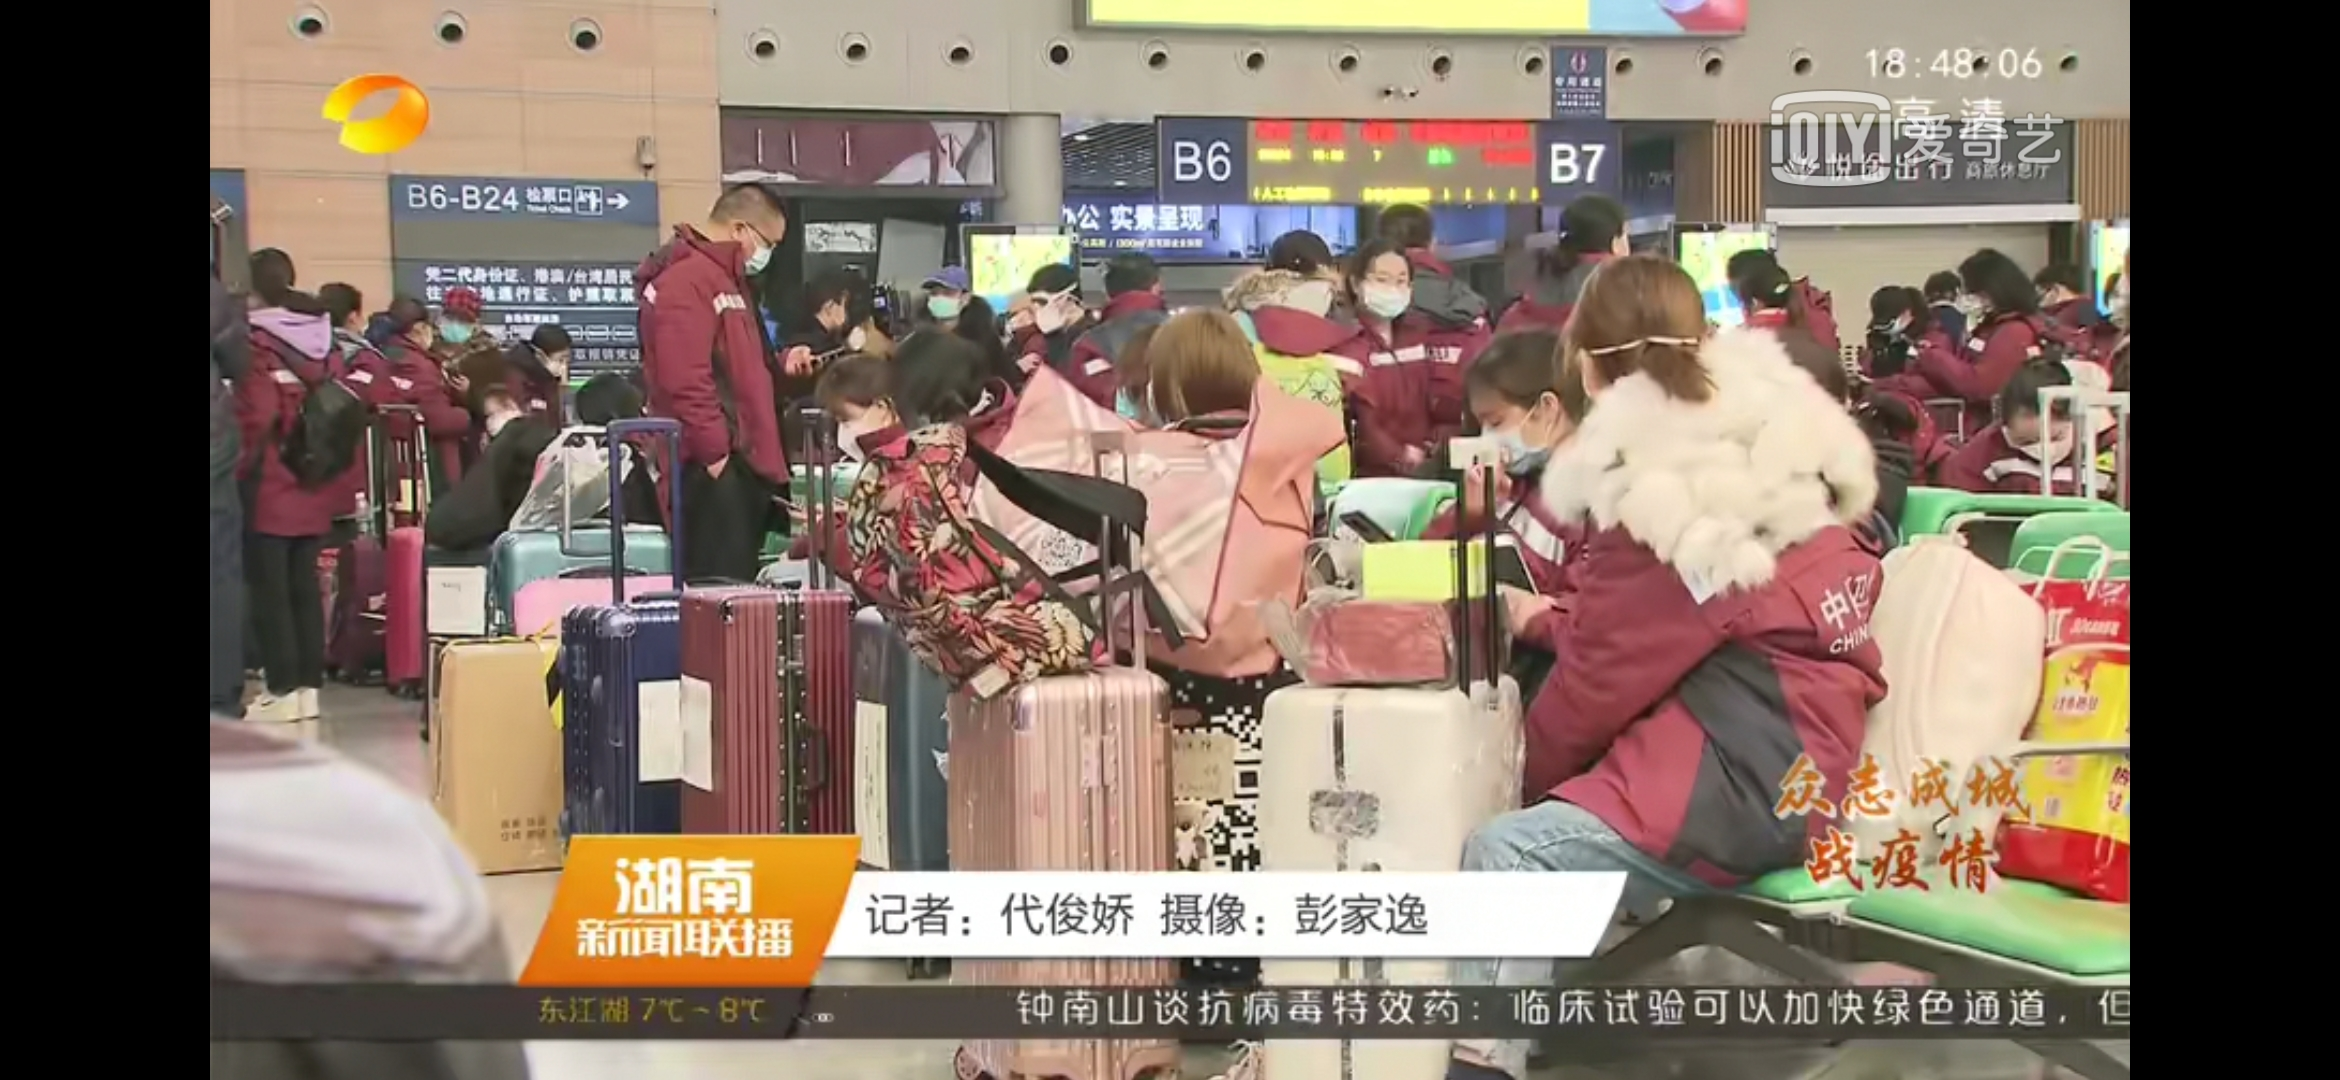correctlyWear: (1351, 257, 1413, 325), (836, 389, 889, 462), (731, 210, 780, 279), (927, 283, 969, 324), (440, 303, 476, 343), (543, 339, 573, 374)
